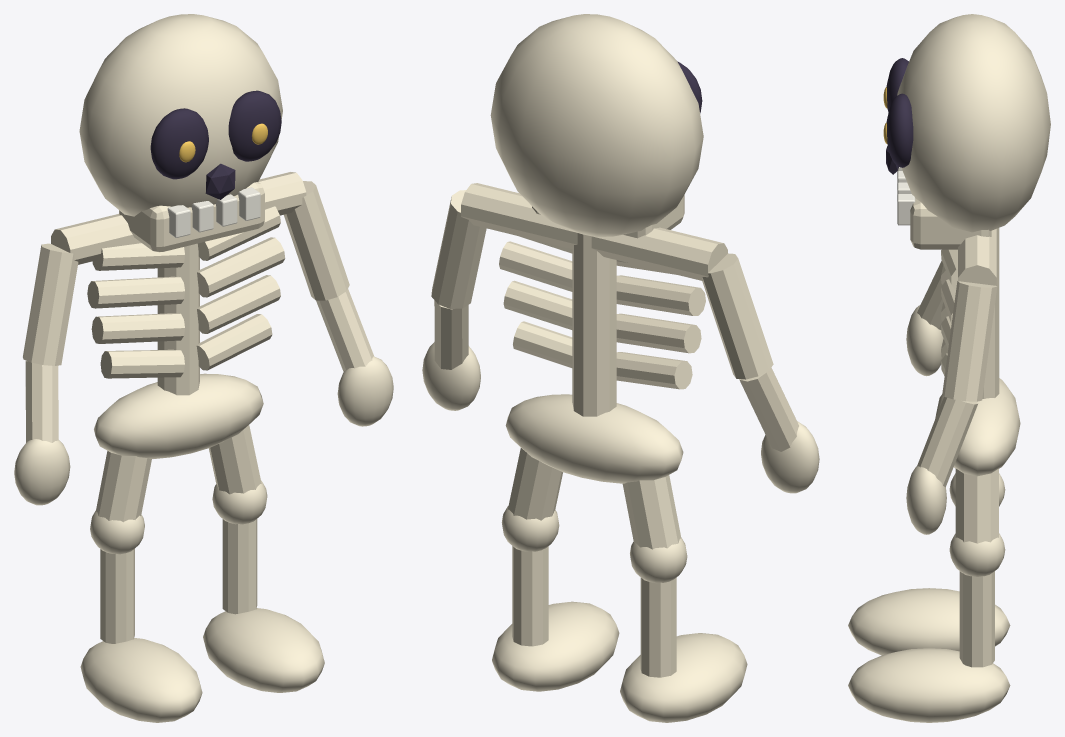
The model's file is skeleton.glb.
3 renders of one model, left to right at view 1: azimuth 30°, elevation 25°; view 2: azimuth 150°, elevation 25°; view 3: azimuth 270°, elevation 25°, orthographic. The views are drawn at different scales.
Parts seen in each view (by area): view 1: skeleton; view 2: skeleton; view 3: skeleton.
Boxes of the visible parts, bbox=[...] form: skeleton: bbox=[14, 14, 393, 722]; skeleton: bbox=[422, 14, 819, 722]; skeleton: bbox=[848, 14, 1050, 722].
Bounding box in the file's own units: 0.86 × 1.44 × 0.4.
